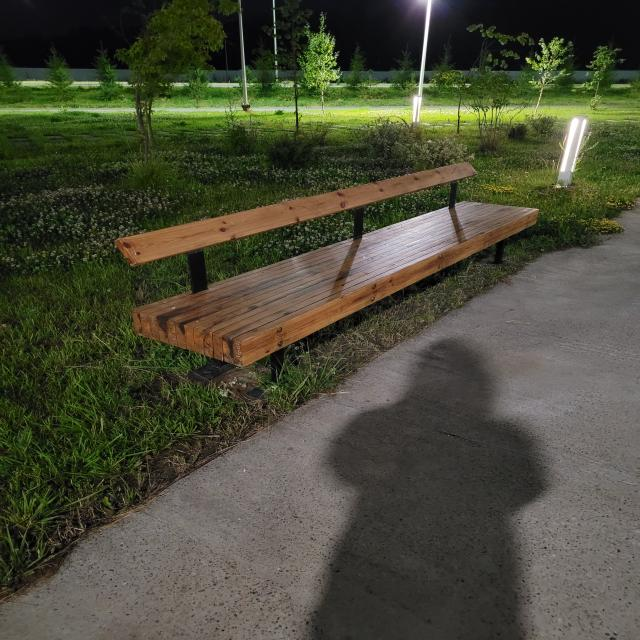Bench: (114, 162, 539, 380)
